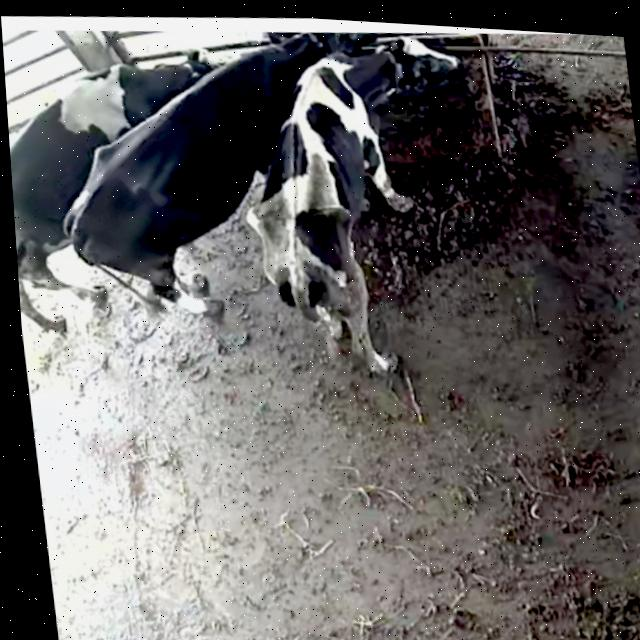drink: (210, 24, 369, 137)
